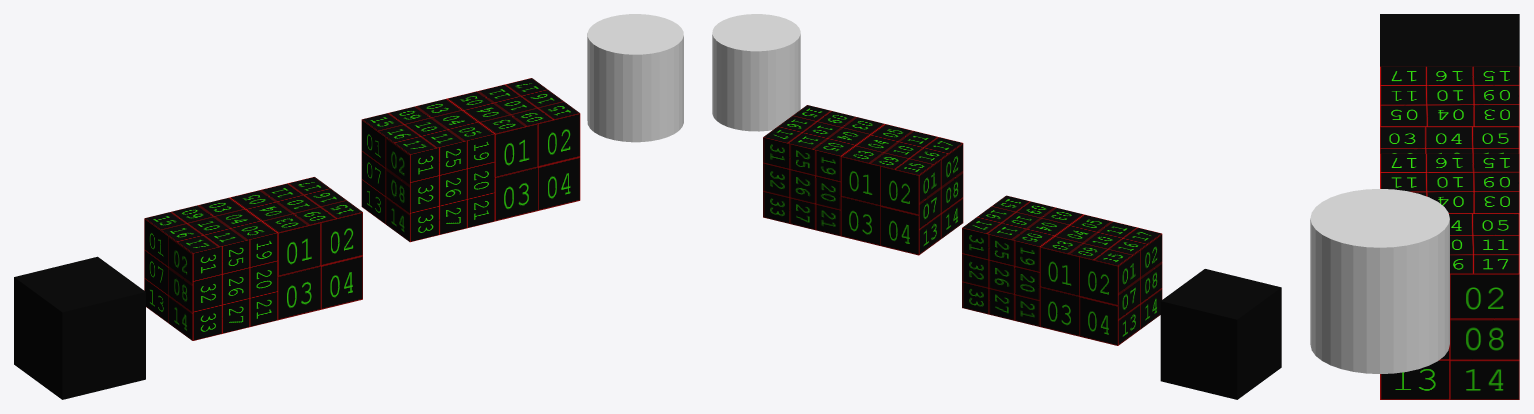
File: TAtestCube4.dae
3 renders of one model, left to right at view 1: azimuth 30°, elevation 25°; view 2: azimuth 150°, elevation 25°; view 3: azimuth 270°, elevation 25°, orthographic. The views are drawn at different scales.
Parts seen in each view (by area): view 1: Cube, Cylinder; view 2: Cube, Cylinder; view 3: Cube, Cylinder.
Boxes of the visible parts, x1,y1,x2,y2 form: Cube: (14, 78, 580, 399); Cylinder: (587, 14, 683, 142); Cube: (763, 105, 1281, 399); Cylinder: (712, 14, 800, 131); Cube: (1380, 14, 1519, 399); Cylinder: (1310, 189, 1449, 373).
Size of the model in its own units: 14.7 by 3 by 5.16.
